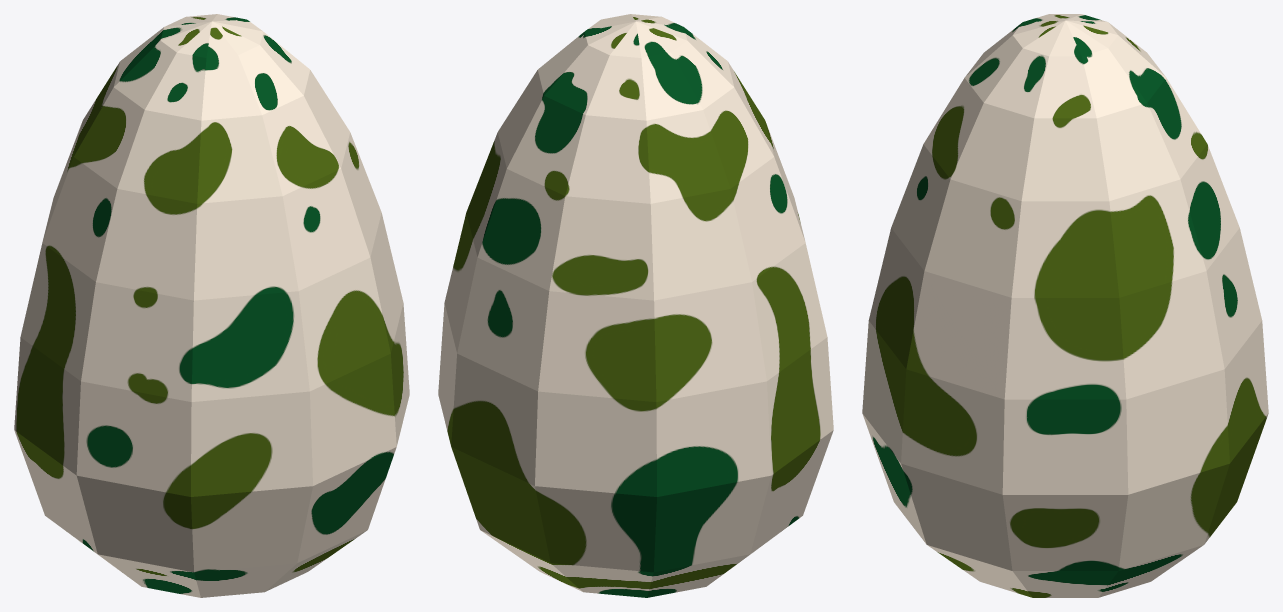
The model's file is huevo.fbx.
The picture shows the model from 3 angles, left to right: view 1: azimuth 30°, elevation 25°; view 2: azimuth 150°, elevation 25°; view 3: azimuth 270°, elevation 25°; orthographic projection.
Parts seen in each view (by area): view 1: Egg; view 2: Egg; view 3: Egg.
Part boxes in pixels (x1=…): Egg: x1=14, y1=14, x2=409, y2=597; Egg: x1=438, y1=14, x2=833, y2=597; Egg: x1=862, y1=14, x2=1268, y2=597.
Size of the model in its own units: 98.17 by 156 by 103.
Materials: 1 (1 with a texture image).
